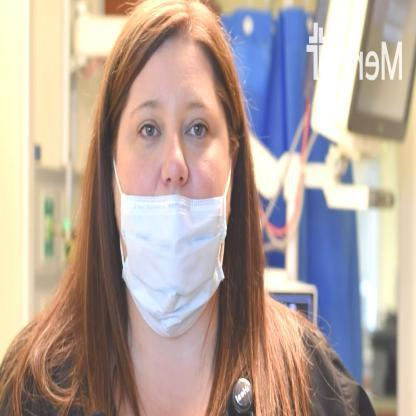mask_weared_incorrect: (108, 50, 236, 344)
